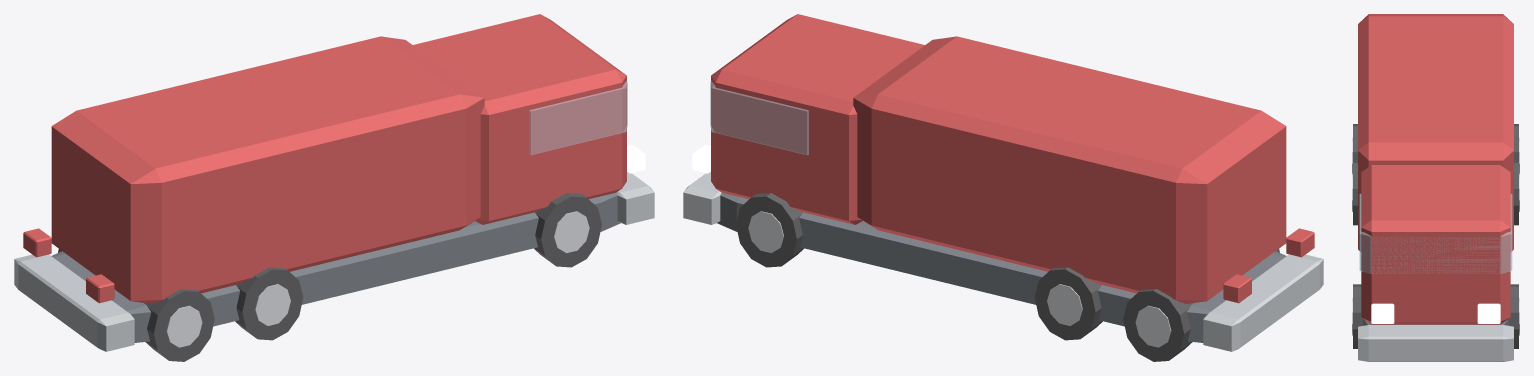
File: b15_fire_pumper_engine.glb
3 renders of one model, left to right at view 1: azimuth 30°, elevation 25°; view 2: azimuth 150°, elevation 25°; view 3: azimuth 270°, elevation 25°, orthographic. The views are drawn at different scales.
Parts seen in each view (by area): view 1: b15_fire_pumper_engine; view 2: b15_fire_pumper_engine; view 3: b15_fire_pumper_engine.
Part boxes in pixels (x1=…): b15_fire_pumper_engine: x1=14, y1=14, x2=654, y2=361; b15_fire_pumper_engine: x1=683, y1=14, x2=1323, y2=361; b15_fire_pumper_engine: x1=1352, y1=14, x2=1519, y2=361.
Bounding box in the file's own units: 9.43 × 3.12 × 2.92.
